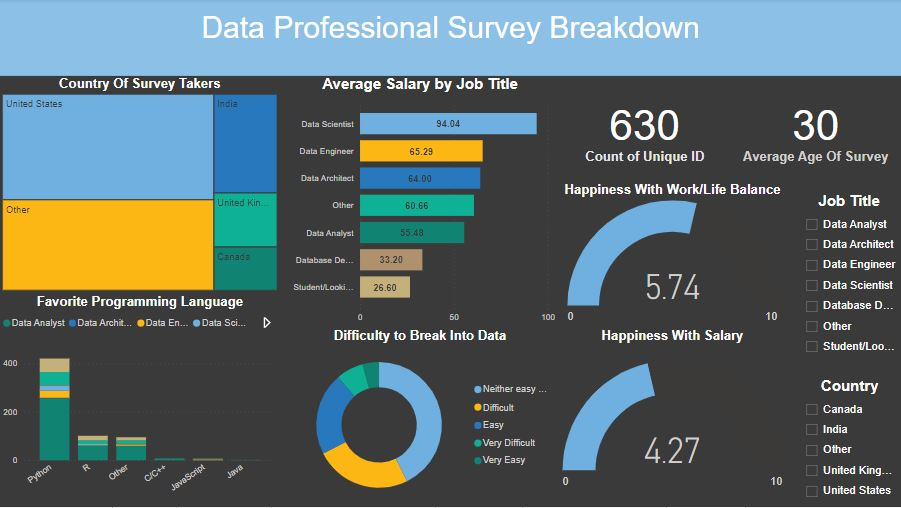

The page's visual inventory and layout, read from the dashboard file:
{"tool":"powerbi","page":{"name":"Page 1","canvas":[1280,720],"ordinal":6},"visuals":[{"type":"shape","box":[1009.1,197,256.5,163],"z":0},{"type":"card","title":"Average Age Of Survey","fields":{"Values":["Avg(Data Professional Survey.Q10 - Current Age)"]},"box":[1027.6,212.6,214,131.8],"z":1000},{"type":"shape","box":[354.2,0,370.1,404.6],"z":2000},{"type":"shape","box":[990.7,403.9,275,314.6],"z":3000},{"type":"gauge","title":"Happiness With Work/Life Balance","fields":{"Y":["Avg(Data Professional Survey.Q6 - How Happy are you in your Current Position with the following? (Work/Life Balance))"],"MinValue":["Min(Data Professional Survey.Q6 - How Happy are you in your Current Position with the following? (Work/Life Balance))"],"MaxValue":["Max(Data Professional Survey.Q6 - How Happy are you in your Current Position with the following? (Work/Life Balance))1"]},"box":[1003.5,443.6,248,235.3],"z":4000},{"type":"shape","box":[714.3,403.9,282,311.8],"z":5000},{"type":"gauge","title":"Happiness With Salary","fields":{"Y":["Avg(Data Professional Survey.Q6 - How Happy are you in your Current Position with the following? (Salary))"],"MinValue":["Min(Data Professional Survey.Q6 - How Happy are you in your Current Position with the following? (Salary))"],"MaxValue":["Max(Data Professional Survey.Q6 - How Happy are you in your Current Position with the following? (Salary))"]},"box":[728.5,432.3,255.1,253.7],"z":6000},{"type":"shape","box":[352.8,404.6,365.8,315.4],"z":7000},{"type":"donutChart","title":"Difficulty to Break Into Data","fields":{"Category":["Data Professional Survey.Q7 - How difficult was it for you to break into Data?"],"Y":["CountNonNull(Data Professional Survey.Q7 - How difficult was it for you to break into Data?)"]},"box":[371.5,417.6,326.9,290.9],"z":8000},{"type":"barChart","title":"Average Salary by Job Title","fields":{"Category":["Data Professional Survey.Q1 - Which Title Best Fits your Current Role?.1"],"Y":["Avg(Data Professional Survey.Average Salary)"],"Series":["Data Professional Survey.Q1 - Which Title Best Fits your Current Role?.1"]},"box":[362.9,15.8,348.5,361.4],"z":9000},{"type":"shape","box":[0,403.2,360,315.4],"z":11000},{"type":"columnChart","title":"Favorite Programming Language","fields":{"Category":["Data Professional Survey.Q5 - Favorite Programming Language.1"],"Y":["CountNonNull(Data Professional Survey.Unique ID)"],"Series":["Data Professional Survey.Q1 - Which Title Best Fits your Current Role?.1"]},"box":[28.8,424.8,322.6,290.9],"z":12000},{"type":"shape","box":[0,0,360,404.6],"z":13000},{"type":"treemap","title":"Country Of Survey Takers","fields":{"Group":["Data Professional Survey.Q11 - Which Country do you live in?.1"],"Values":["CountNonNull(Data Professional Survey.Unique ID)"]},"box":[15.8,21.6,321.1,355.7],"z":14000},{"type":"shape","box":[738.4,104.9,245.2,92.1],"z":15000},{"type":"shape","box":[1009.1,104.9,256.5,92.1],"z":16000},{"type":"slicer","title":"Job Title","fields":{"Values":["Data Professional Survey.Q1 - Which Title Best Fits your Current Role?.1"]},"box":[758.3,114.8,216.9,85],"z":17000},{"type":"slicer","title":"Country","fields":{"Values":["Data Professional Survey.Q11 - Which Country do you live in?.1"]},"box":[1024.7,116.2,214,80.8],"z":18000},{"type":"shape","box":[718.6,0,554.4,105.1],"z":19000},{"type":"textbox","box":[751.7,21.6,527,106.6],"z":20000},{"type":"shape","box":[738.4,21.3,43.9,48.2],"z":21000},{"type":"shape","box":[728.5,197,256.5,163],"z":22000},{"type":"card","title":"Count Of Survey","fields":{"Values":["CountNonNull(Data Professional Survey.Unique ID)"]},"box":[754,208.3,206.9,140.3],"z":22001}]}

Visuals, with their boxes in screenshot pixels (x1, y1, x2, y2), scaled from the page's 1280x720 canvas onto the 901x508 screenshot:
shape: BBox(710, 139, 891, 254)
"Average Age Of Survey" card: BBox(723, 150, 874, 243)
shape: BBox(249, 0, 510, 285)
shape: BBox(697, 285, 891, 507)
"Happiness With Work/Life Balance" gauge: BBox(706, 313, 881, 479)
shape: BBox(503, 285, 701, 505)
"Happiness With Salary" gauge: BBox(513, 305, 692, 484)
shape: BBox(248, 285, 506, 507)
"Difficulty to Break Into Data" donutChart: BBox(262, 295, 492, 500)
"Average Salary by Job Title" barChart: BBox(255, 11, 501, 266)
shape: BBox(0, 284, 253, 507)
"Favorite Programming Language" columnChart: BBox(20, 300, 247, 505)
shape: BBox(0, 0, 253, 285)
"Country Of Survey Takers" treemap: BBox(11, 15, 237, 266)
shape: BBox(520, 74, 692, 139)
shape: BBox(710, 74, 891, 139)
"Job Title" slicer: BBox(534, 81, 686, 141)
"Country" slicer: BBox(721, 82, 872, 139)
shape: BBox(506, 0, 896, 74)
textbox: BBox(529, 15, 900, 90)
shape: BBox(520, 15, 551, 49)
shape: BBox(513, 139, 693, 254)
"Count Of Survey" card: BBox(531, 147, 676, 246)
